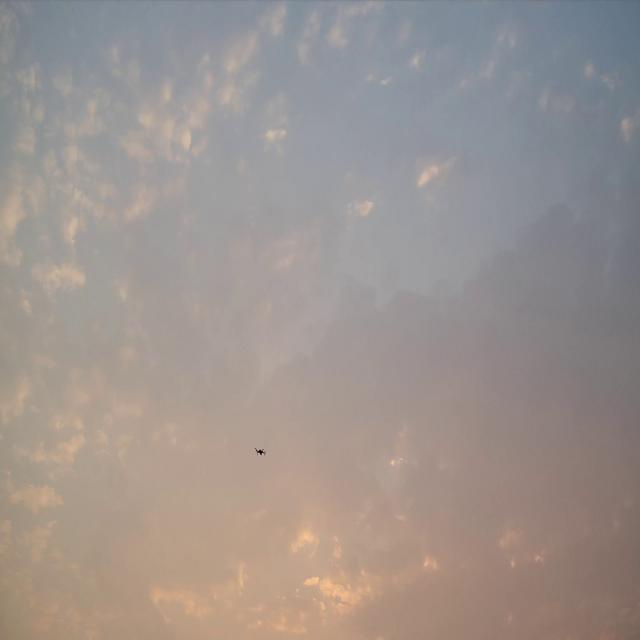drone: (254, 447, 266, 456)
